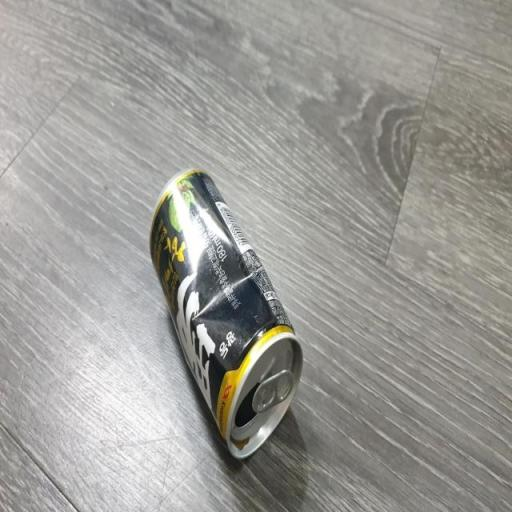metal: (134, 147, 309, 474)
